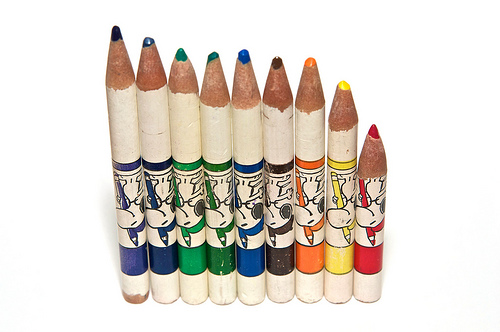pen_tip: (97, 17, 134, 100), (360, 115, 395, 195), (168, 41, 202, 104)
